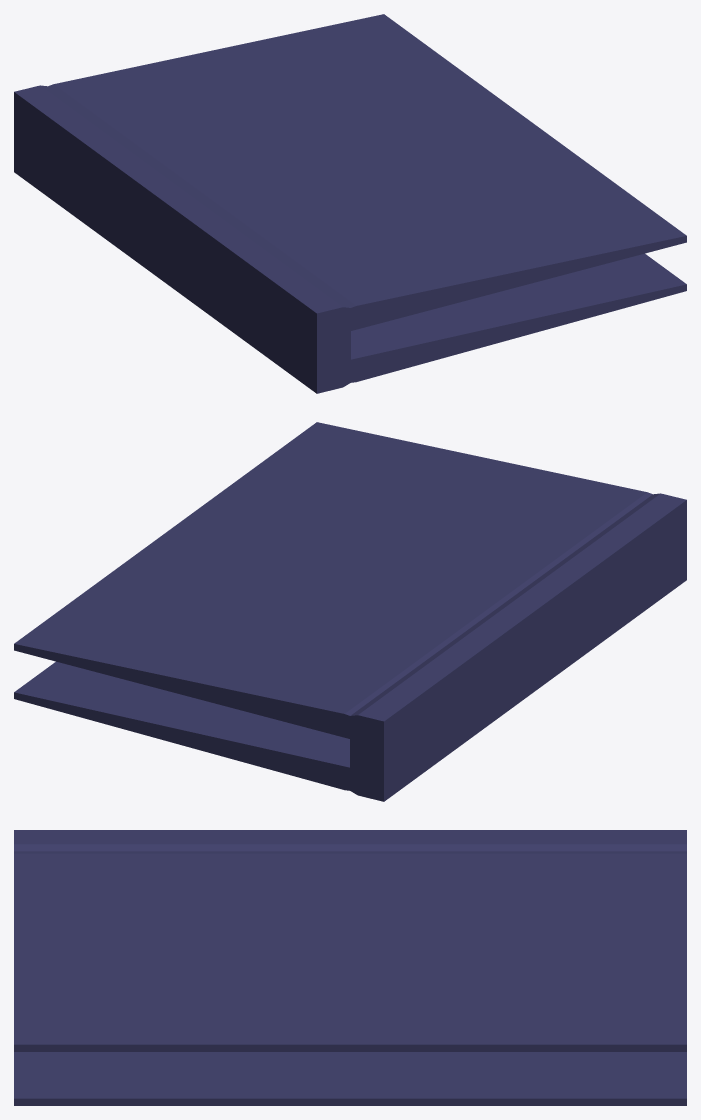
3 views of the same model, one above another, from view 1: azimuth 30°, elevation 25°; view 2: azimuth 150°, elevation 25°; view 3: azimuth 270°, elevation 25° (orthographic). The views are drawn at different scales.
Visible parts, largest first — view 1: Cube.065; view 2: Cube.065; view 3: Cube.065.
Boxes of the visible parts, left/top/right/bottom form: Cube.065: left=14, top=14, right=686, bottom=393; Cube.065: left=14, top=422, right=686, bottom=801; Cube.065: left=14, top=830, right=686, bottom=1105.
Bounding box in the file's own units: 33.39 × 6.93 × 47.33.
